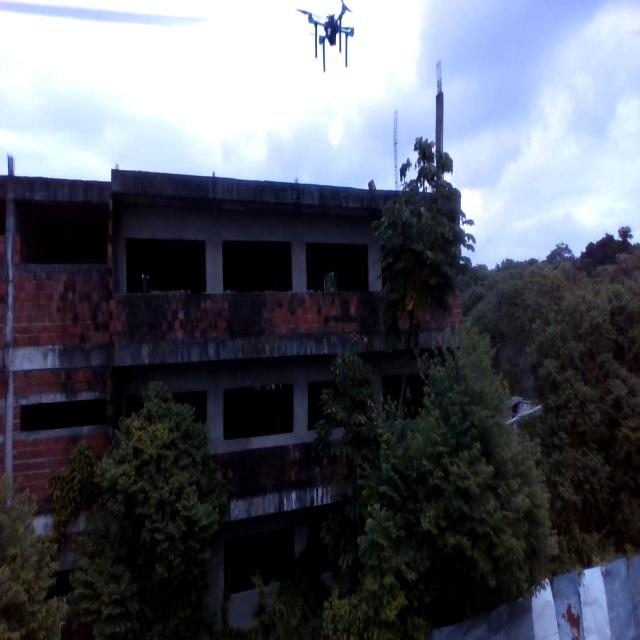-uav-: (298, 1, 370, 76)
